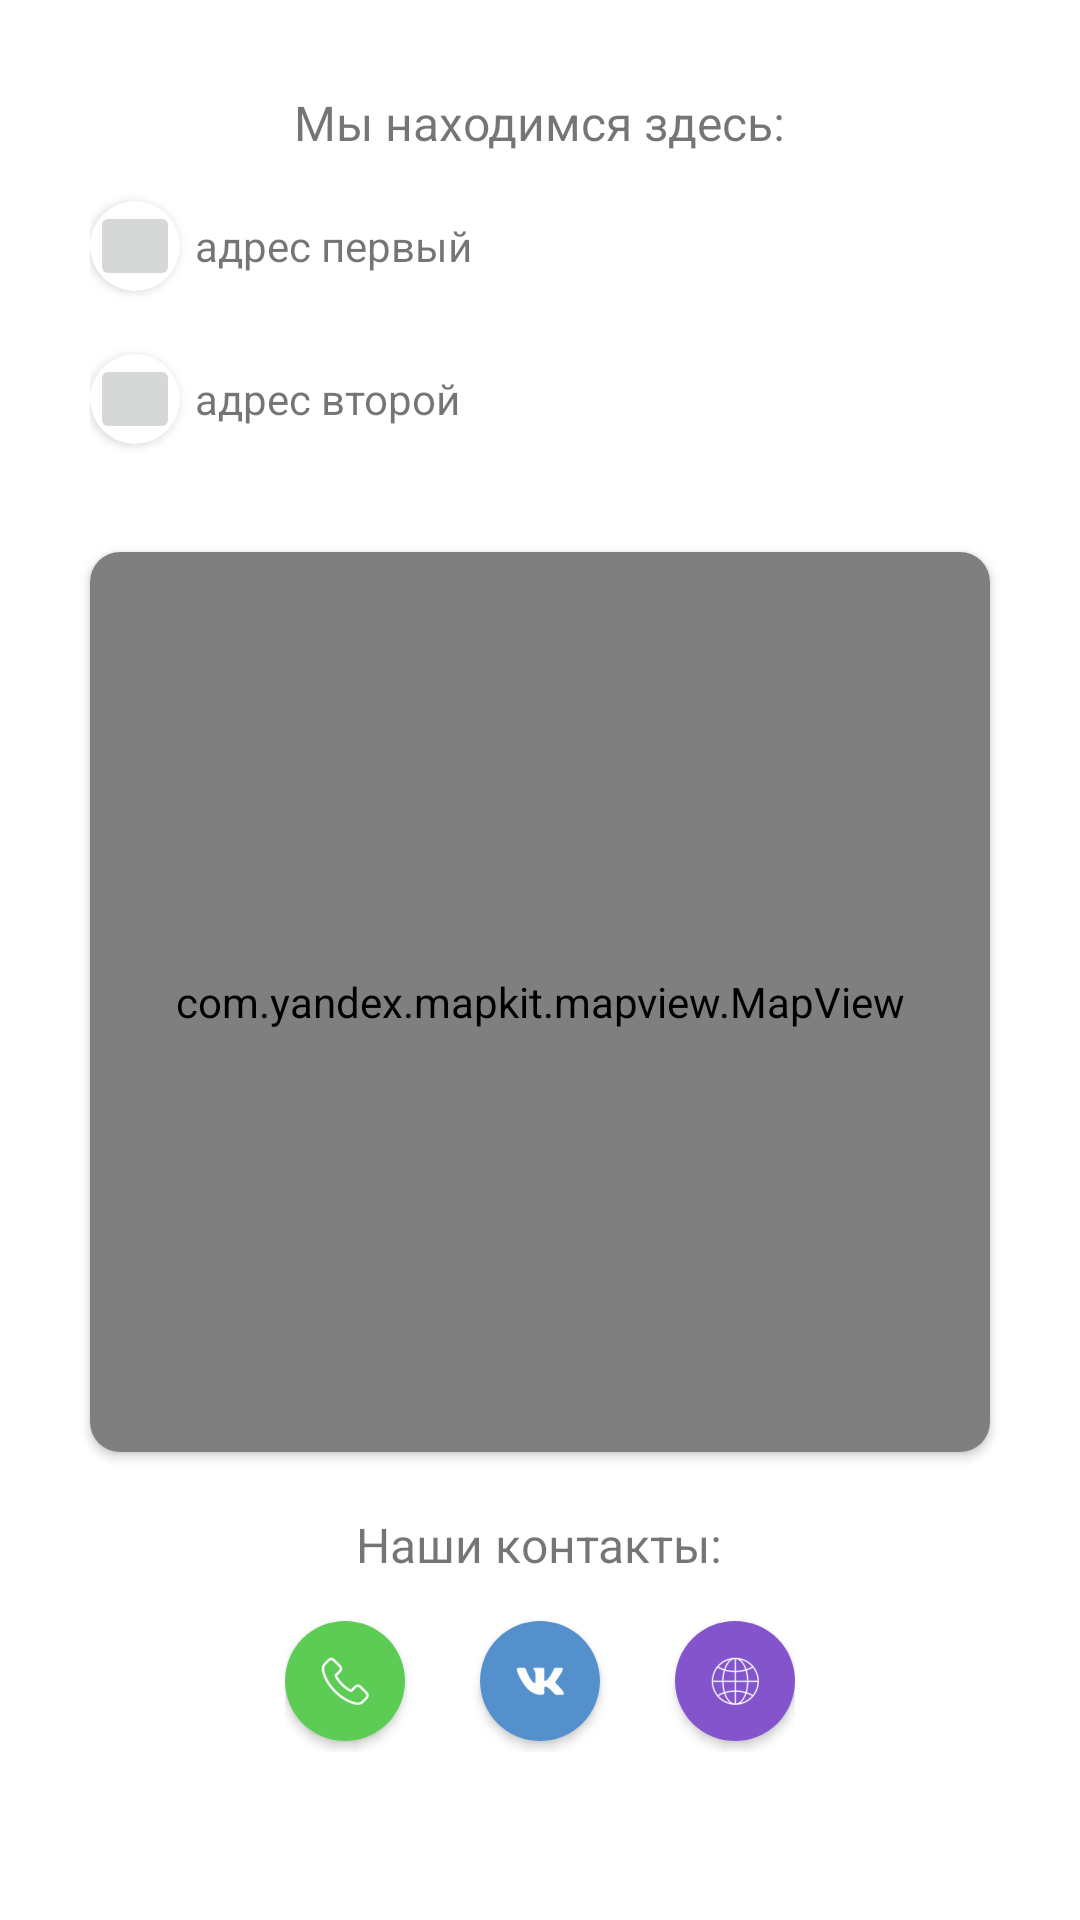

Icon bounding boxes for this 1080 × 1920 phone screenshot, format (x1=x1, y1=y1, x2=x2, y2=y2):
call round: (x1=285, y1=1621, x2=405, y2=1741)
web round: (x1=675, y1=1621, x2=795, y2=1741)
